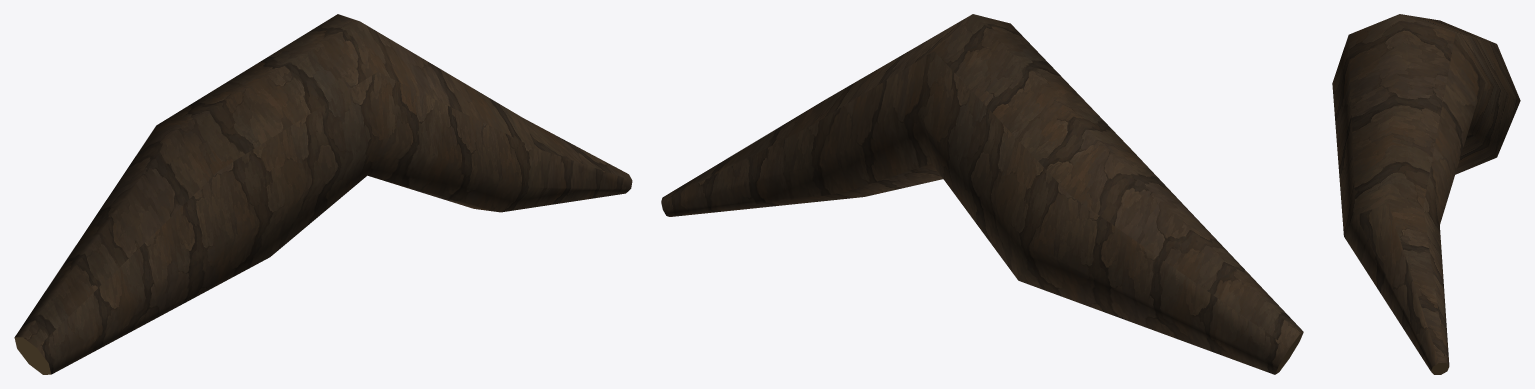
3 views of the same model, side by side, from view 1: azimuth 30°, elevation 25°; view 2: azimuth 150°, elevation 25°; view 3: azimuth 270°, elevation 25° (orthographic). The views are drawn at different scales.
Visible parts, largest first — view 1: Gnarled exposed root; view 2: Gnarled exposed root; view 3: Gnarled exposed root.
Part boxes in pixels (bbox=[...]): Gnarled exposed root: bbox=[14, 14, 632, 374]; Gnarled exposed root: bbox=[661, 14, 1303, 374]; Gnarled exposed root: bbox=[1332, 14, 1520, 374].
Size of the model in its own units: 4.09 by 1.76 by 1.17.
Materials: 2 (1 with a texture image).
